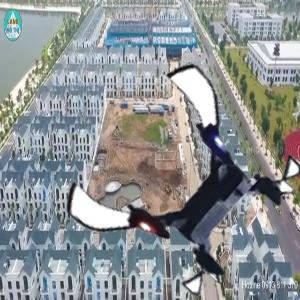drone: (82, 86, 284, 288)
